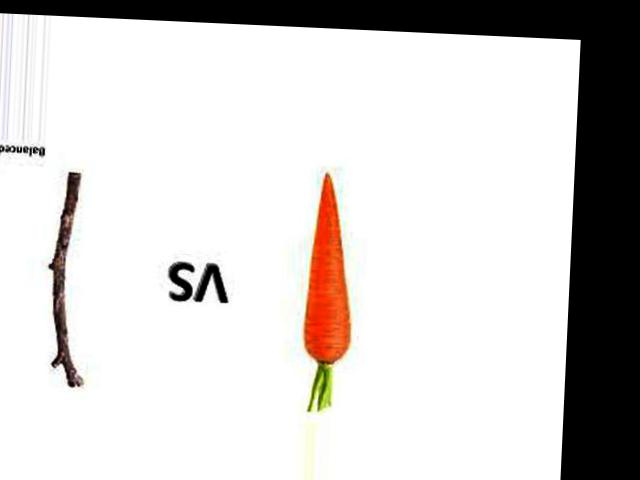carrot: (288, 166, 367, 369)
